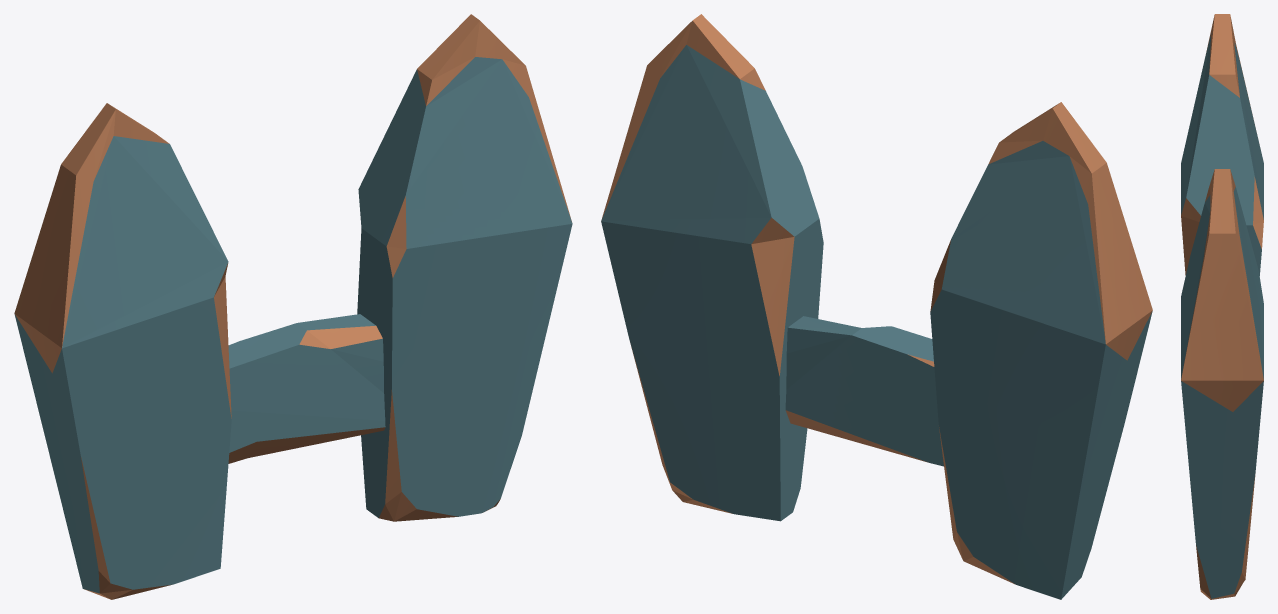
Rendered from Dis_Cit.fbx.
3 views of the same model, side by side, from view 1: azimuth 30°, elevation 25°; view 2: azimuth 150°, elevation 25°; view 3: azimuth 270°, elevation 25° (orthographic). The views are drawn at different scales.
Visible parts, largest first — view 1: Dis_Cit; view 2: Dis_Cit; view 3: Dis_Cit.
Boxes of the visible parts, x1,y1,x2,y2 form: Dis_Cit: (14, 14, 572, 599); Dis_Cit: (601, 14, 1152, 599); Dis_Cit: (1181, 14, 1263, 599).
Bounding box in the file's own units: 63.7 × 58.13 × 10.28.
